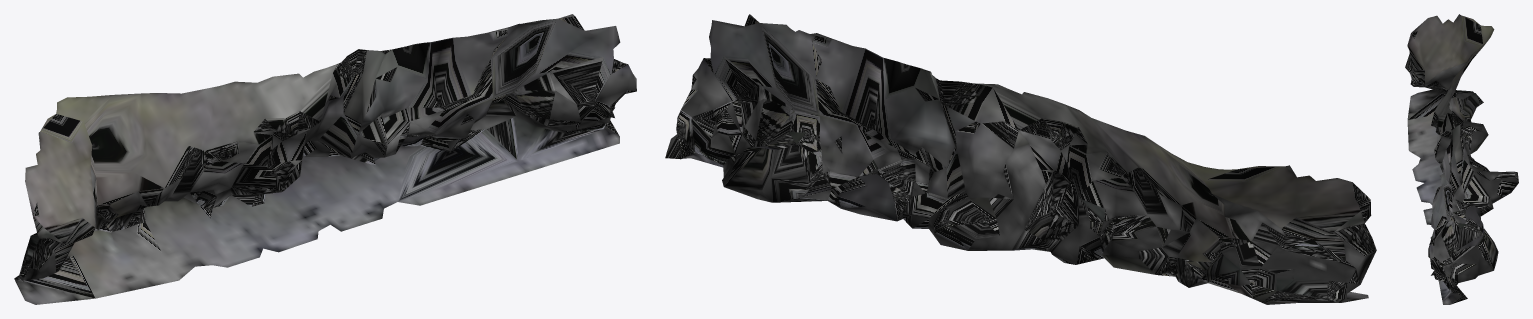
The model's file is bw-rockface-a.lod1.glb.
The picture shows the model from 3 angles, left to right: view 1: azimuth 30°, elevation 25°; view 2: azimuth 150°, elevation 25°; view 3: azimuth 270°, elevation 25°; orthographic projection. The views are drawn at different scales.
Parts seen in each view (by area): view 1: Object_4; view 2: Object_4; view 3: Object_4.
Part boxes in pixels (x1=…): Object_4: x1=14, y1=14, x2=636, y2=304; Object_4: x1=665, y1=14, x2=1376, y2=304; Object_4: x1=1405, y1=14, x2=1518, y2=304.
Size of the model in its own units: 21.99 by 5.13 by 5.03.
1 material, 1 textured.
